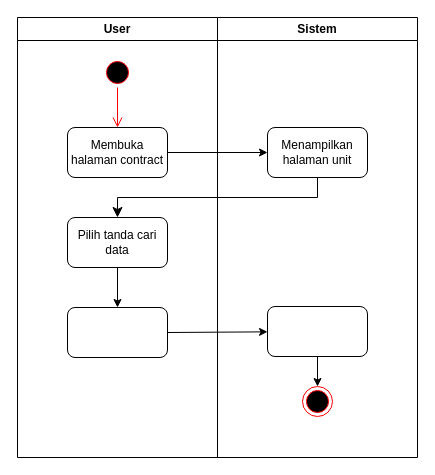
Some shapes in this 435 by 475 pixel diagram are drawn without their labels. Each missing label, with the centre of its shape:
"Menampilkan hasil pencarian" belongs at point (317, 331).
"Tulis kata kunci yang ingin dicari" belongs at point (117, 332).
